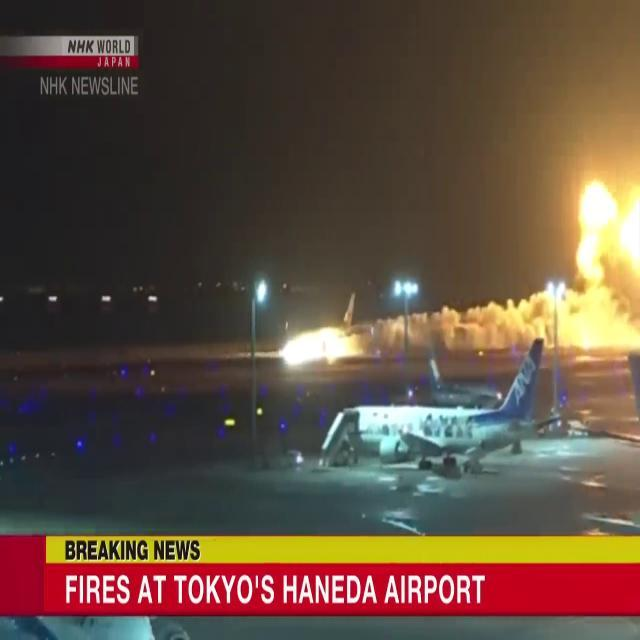Fire: (563, 160, 640, 328), (274, 318, 354, 374)
